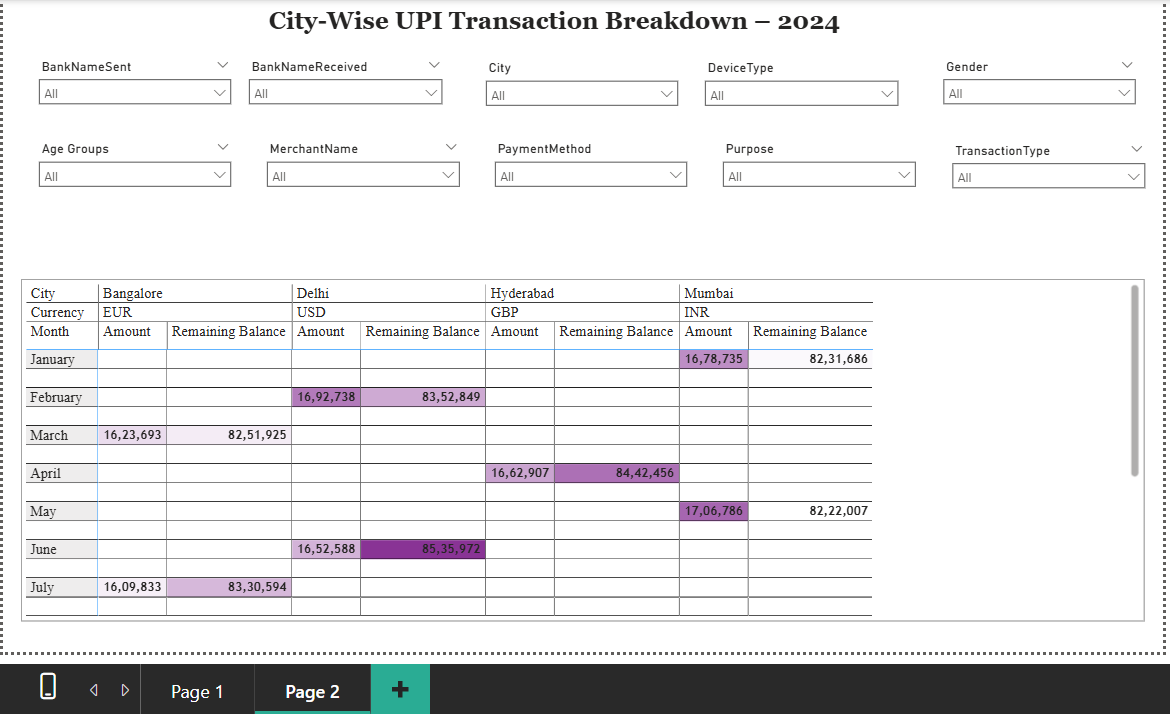

The page's visual inventory and layout, read from the dashboard file:
{"tool":"powerbi","page":{"name":"Page 2","canvas":[1280,720],"ordinal":1},"visuals":[{"type":"slicer","fields":{"Values":["UPI Transactions.BankNameSent"]},"box":[29.8,59.6,231.9,79.5],"z":0},{"type":"slicer","fields":{"Values":["UPI Transactions.City"]},"box":[523.4,61.3,231.9,79.5],"z":1000},{"type":"slicer","fields":{"Values":["UPI Transactions.BankNameReceived"]},"box":[261.7,59.6,233.6,79.5],"z":2000},{"type":"slicer","fields":{"Values":["UPI Transactions.DeviceType"]},"box":[765.3,61.3,233.6,79.5],"z":3000},{"type":"slicer","fields":{"Values":["UPI Transactions.Gender"]},"box":[1028.7,59.6,231.9,77.9],"z":4000},{"type":"slicer","fields":{"Values":["UPI Transactions.Age Groups"]},"box":[30,151.5,232,80],"z":5000},{"type":"slicer","fields":{"Values":["UPI Transactions.PaymentMethod"]},"box":[534,151.5,232,79.4],"z":6000},{"type":"slicer","fields":{"Values":["UPI Transactions.MerchantName"]},"box":[282,151.5,232.4,79.4],"z":7000},{"type":"slicer","fields":{"Values":["UPI Transactions.Purpose"]},"box":[786,151.5,232.4,79.4],"z":8000},{"type":"slicer","fields":{"Values":["UPI Transactions.TransactionType"]},"box":[1038,152.3,232.4,79.4],"z":9000},{"type":"pivotTable","fields":{"Values":["Sum(UPI Transactions.Amount)","Sum(UPI Transactions.RemainingBalance)"],"Rows":["UPI Transactions.TransactionDate.Variation.Date Hierarchy.Month"],"Columns":["UPI Transactions.City","UPI Transactions.Currency"]},"box":[19.9,308.1,1240.7,377.7],"z":10000},{"type":"textbox","box":[281.6,1.7,689.1,58],"z":11000}]}

Visuals, with their boxes on the page's 1280x720 design canvas (x1, y1, x2, y2). These are canvas units, not pixel positions in the 1170x714 screenshot, which may show the page scaled, cropped or inside an application window:
slicer - UPI Transactions.BankNameSent: {"left": 30, "top": 60, "right": 262, "bottom": 139}
slicer - UPI Transactions.City: {"left": 523, "top": 61, "right": 755, "bottom": 141}
slicer - UPI Transactions.BankNameReceived: {"left": 262, "top": 60, "right": 495, "bottom": 139}
slicer - UPI Transactions.DeviceType: {"left": 765, "top": 61, "right": 999, "bottom": 141}
slicer - UPI Transactions.Gender: {"left": 1029, "top": 60, "right": 1261, "bottom": 138}
slicer - UPI Transactions.Age Groups: {"left": 30, "top": 152, "right": 262, "bottom": 232}
slicer - UPI Transactions.PaymentMethod: {"left": 534, "top": 152, "right": 766, "bottom": 231}
slicer - UPI Transactions.MerchantName: {"left": 282, "top": 152, "right": 514, "bottom": 231}
slicer - UPI Transactions.Purpose: {"left": 786, "top": 152, "right": 1018, "bottom": 231}
slicer - UPI Transactions.TransactionType: {"left": 1038, "top": 152, "right": 1270, "bottom": 232}
pivotTable - Sum(UPI Transactions.Amount) x Sum(UPI Transactions.RemainingBalance): {"left": 20, "top": 308, "right": 1261, "bottom": 686}
textbox: {"left": 282, "top": 2, "right": 971, "bottom": 60}
